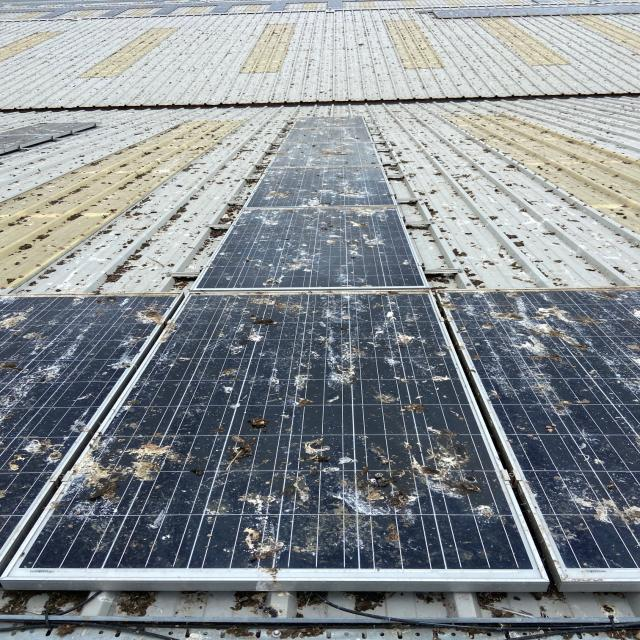dust-solar-panel: (0, 115, 640, 581)
